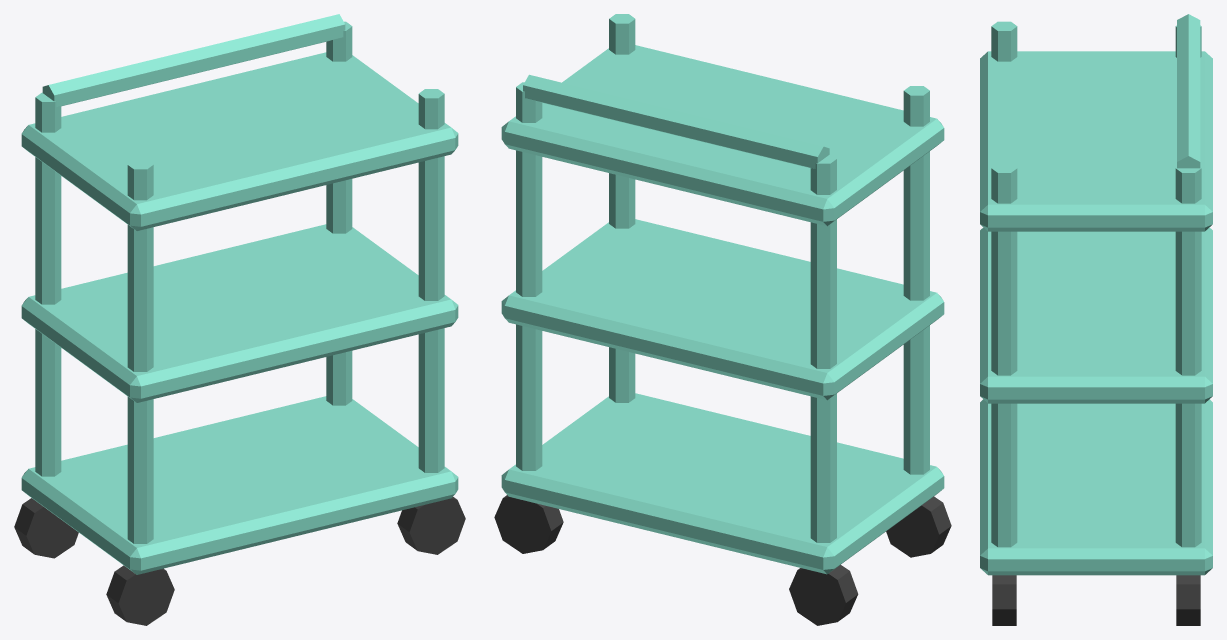
The picture shows the model from 3 angles, left to right: view 1: azimuth 30°, elevation 25°; view 2: azimuth 150°, elevation 25°; view 3: azimuth 270°, elevation 25°; orthographic projection.
Parts seen in each view (by area): view 1: Tray.002, Tray.001, Tray, Post, Post.002, Post.001, Handle, Post.003, Wheel, Wheel.002, Wheel.001; view 2: Tray.001, Tray, Tray.002, Post.001, Post, Post.003, Handle, Post.002, Wheel.001, Wheel.003, Wheel; view 3: Tray.002, Tray, Tray.001, Post.002, Post.003, Handle, Wheel.002, Wheel.003, Post.
Boxes of the visible parts, <box> form: Tray.002: <box>21,52,458,230</box>; Tray.001: <box>21,224,458,402</box>; Tray: <box>21,396,458,574</box>; Post: <box>127,160,153,543</box>; Post.002: <box>418,89,444,472</box>; Post.001: <box>35,92,61,476</box>; Handle: <box>42,14,345,106</box>; Post.003: <box>326,21,352,405</box>; Wheel: <box>106,565,174,625</box>; Wheel.002: <box>397,497,465,554</box>; Wheel.001: <box>14,498,78,558</box>; Tray.001: <box>501,219,944,400</box>; Tray: <box>501,393,944,574</box>; Tray.002: <box>501,45,944,226</box>; Post.001: <box>810,154,836,542</box>; Post: <box>903,86,929,474</box>; Post.003: <box>516,82,542,470</box>; Handle: <box>523,74,829,168</box>; Post.002: <box>609,14,635,402</box>; Wheel.001: <box>789,564,858,625</box>; Wheel.003: <box>494,495,563,553</box>; Wheel: <box>886,496,951,557</box>; Tray.002: <box>980,51,1212,231</box>; Tray: <box>980,399,1212,575</box>; Tray.001: <box>980,227,1212,403</box>; Post.002: <box>991,163,1017,547</box>; Post.003: <box>1175,167,1201,547</box>; Handle: <box>1177,14,1200,168</box>; Wheel.002: <box>992,575,1016,625</box>; Wheel.003: <box>1176,575,1200,625</box>; Post: <box>991,21,1017,61</box>.
Bounding box in the file's own units: 0.74 × 0.955 × 0.43.
Materials: 1 (1 with a texture image).
